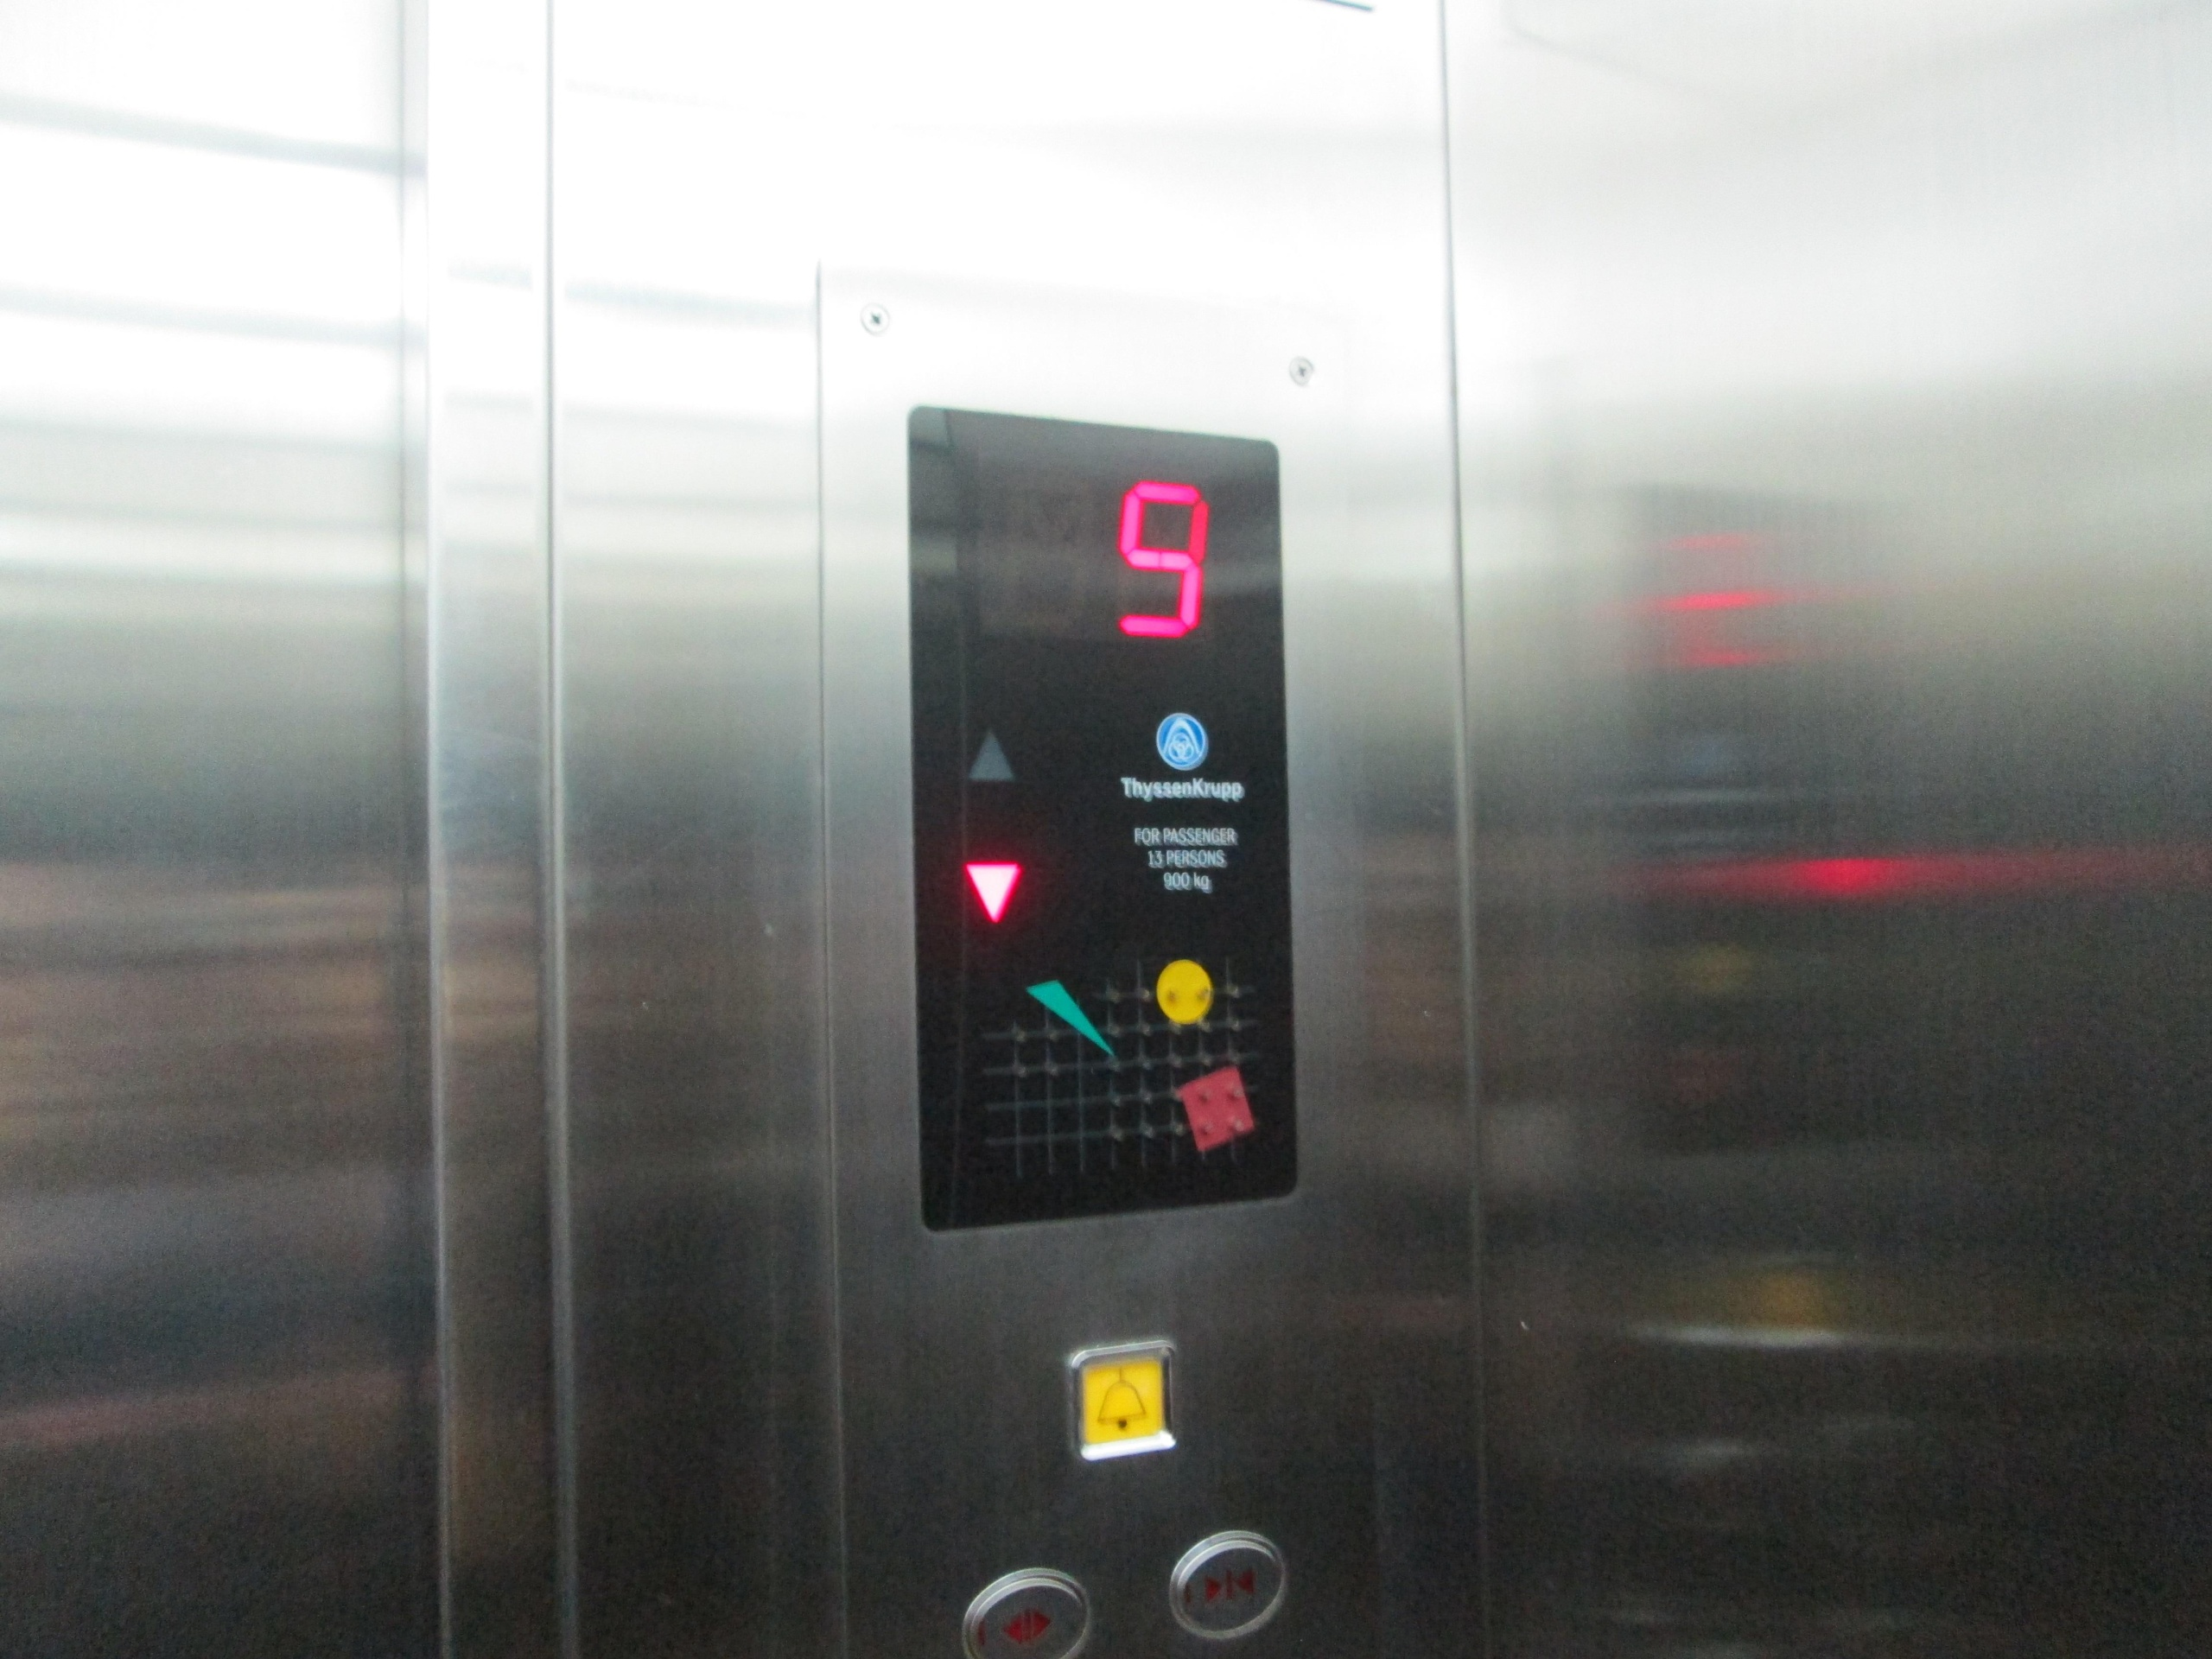alarm: (1066, 1338, 1181, 1466)
close: (1167, 1528, 1289, 1640)
led: (876, 369, 1322, 1255)
open: (960, 1563, 1092, 1659)
